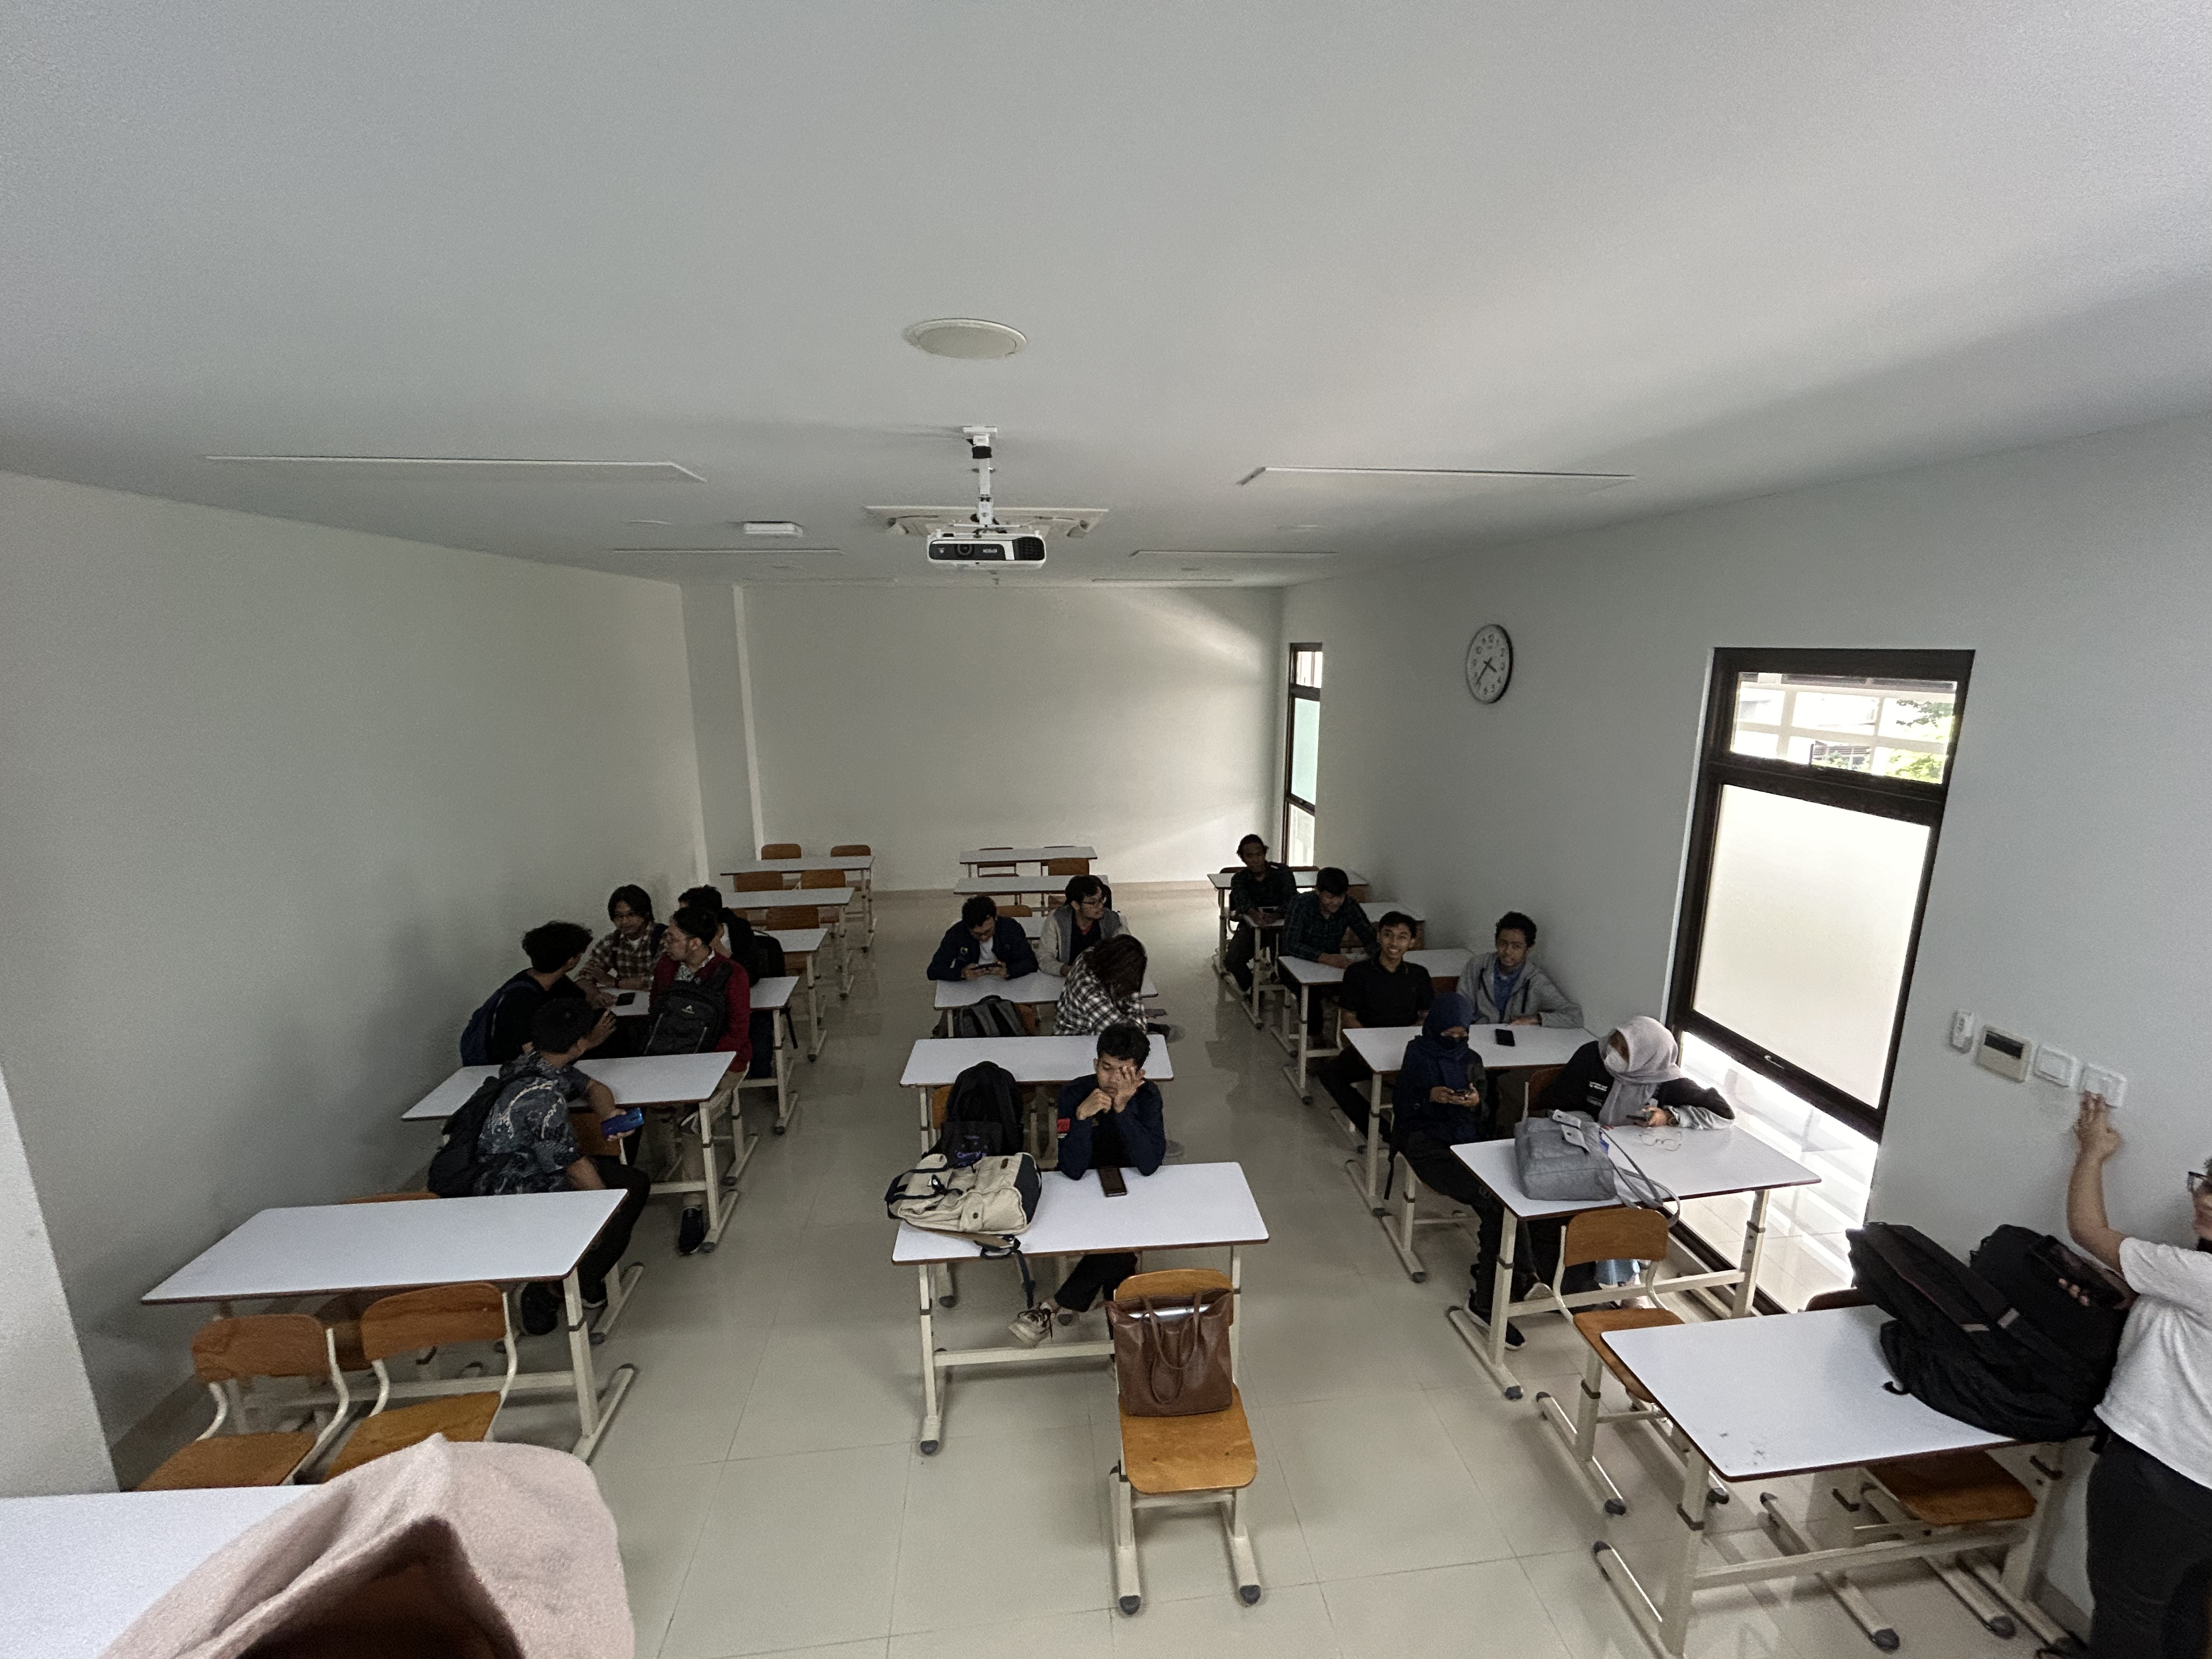person: (455, 1014, 640, 1190), (1051, 1036, 1182, 1187), (1566, 1018, 1726, 1123), (1401, 1002, 1508, 1143), (642, 915, 751, 1051), (1463, 904, 1566, 1023), (1351, 909, 1440, 1029), (924, 906, 1036, 983), (1060, 938, 1154, 1025), (1286, 855, 1360, 950), (1043, 872, 1125, 934), (1219, 835, 1285, 911), (509, 921, 589, 983), (596, 877, 658, 938)
